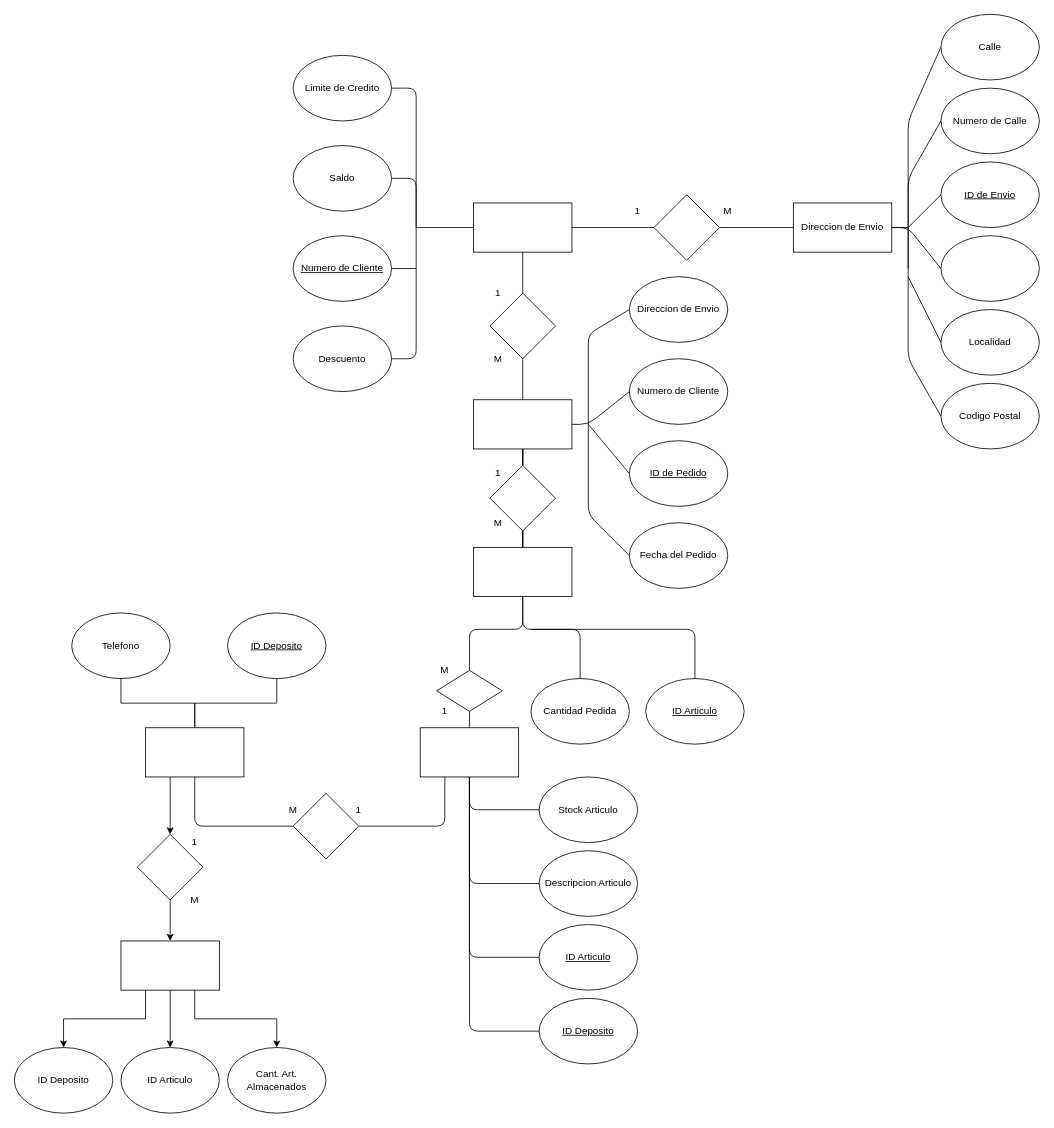
The diagram is 1054 pixels wide and 1128 high, and some of its shapes have lost their labels. The centre of each missing label's shape, as x and y in pixels:
Articulo: point (469, 752)
Cliente: point (522, 227)
Deposito Almacenamiento: point (194, 752)
Detalle del Pedido: point (522, 572)
Lugar Almacenameinto: point (169, 965)
Pedido: point (522, 424)
Provincia: point (989, 268)
